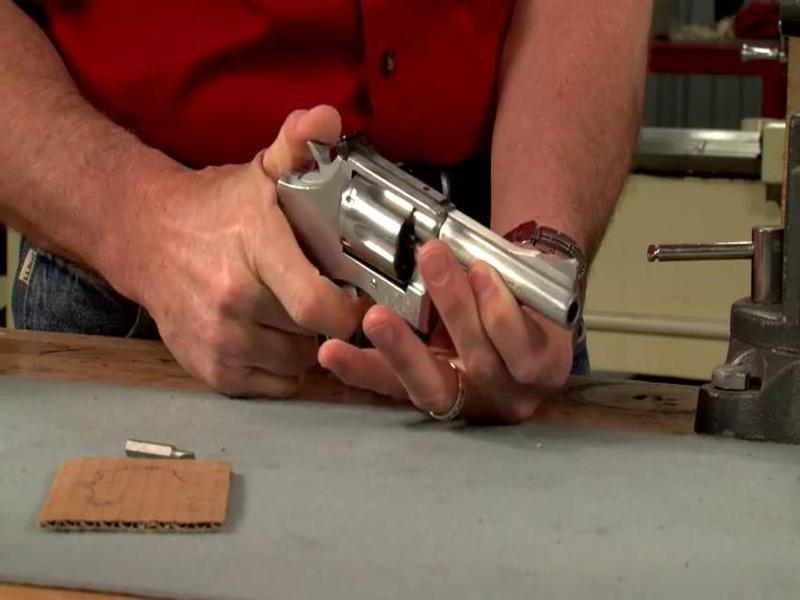Revolver: (235, 120, 587, 394)
